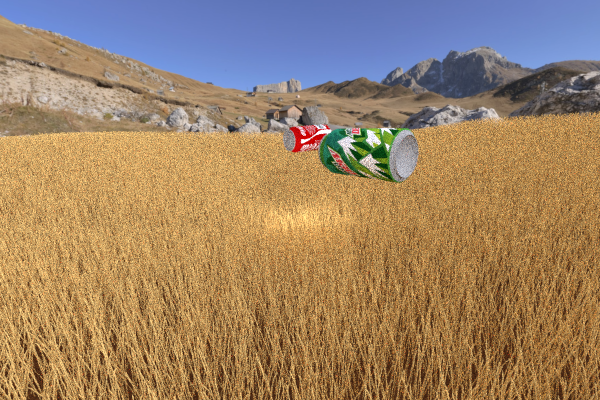Plastic Bottle: (0, 122, 122, 265), (318, 128, 418, 182), (283, 124, 332, 152)
